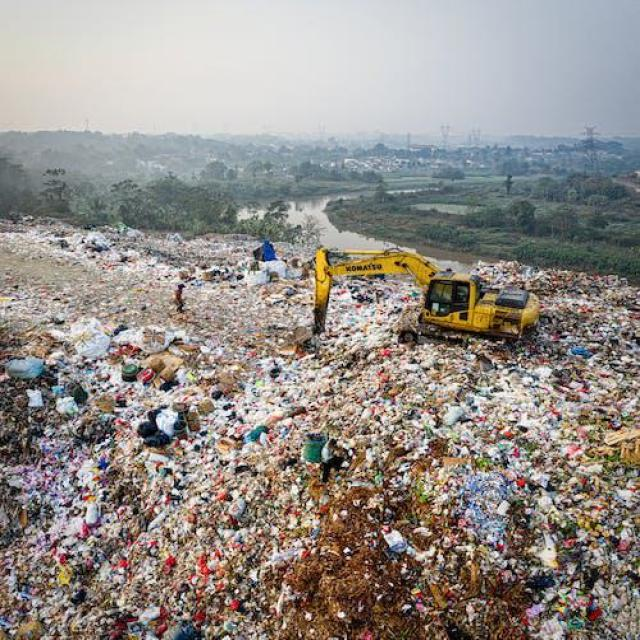trash: (39, 318, 304, 626), (354, 378, 620, 632)
